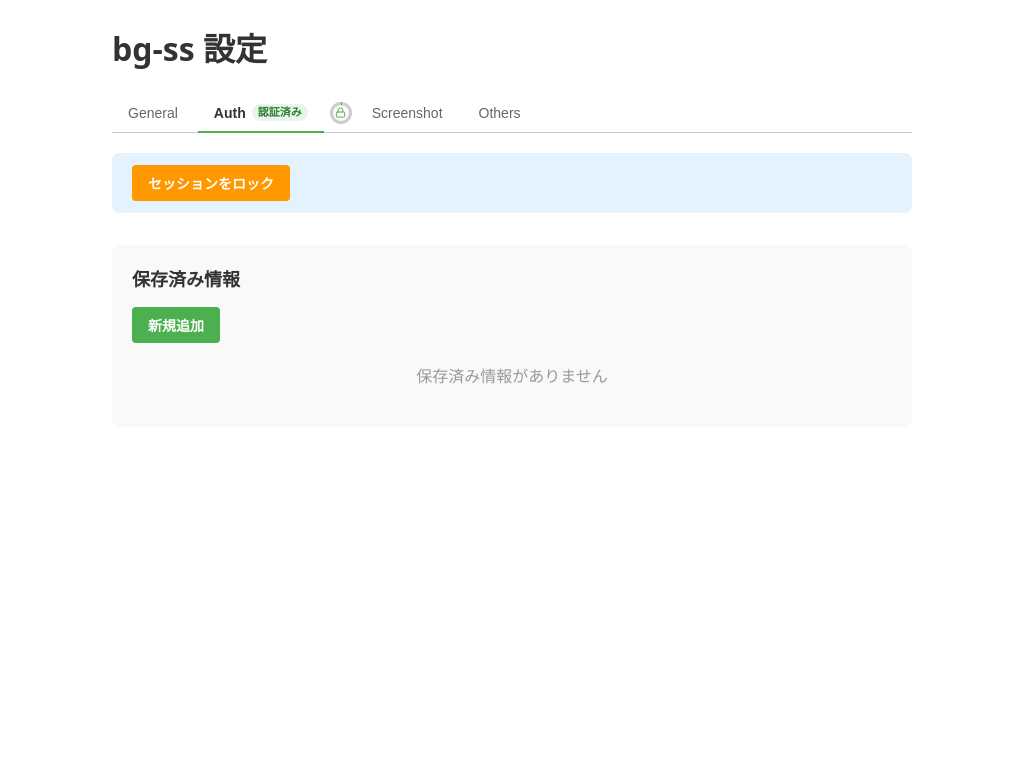
Options App › 情報追加 › 必須フィールドが空の場合はエラーが表示される
新規追加ボタンをクリック
Click the button "新規追加": point(176, 325) [132, 307, 220, 343]
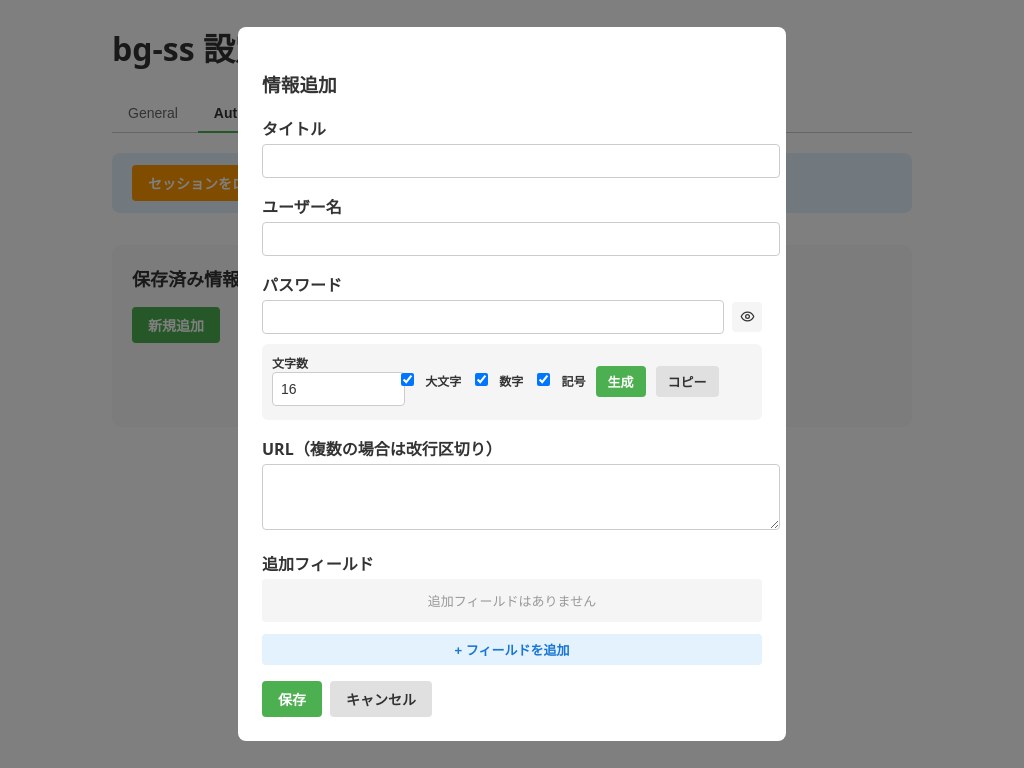
何も入力せずに保存ボタンをクリック
Click the button "保存": point(292, 699) [262, 681, 322, 717]
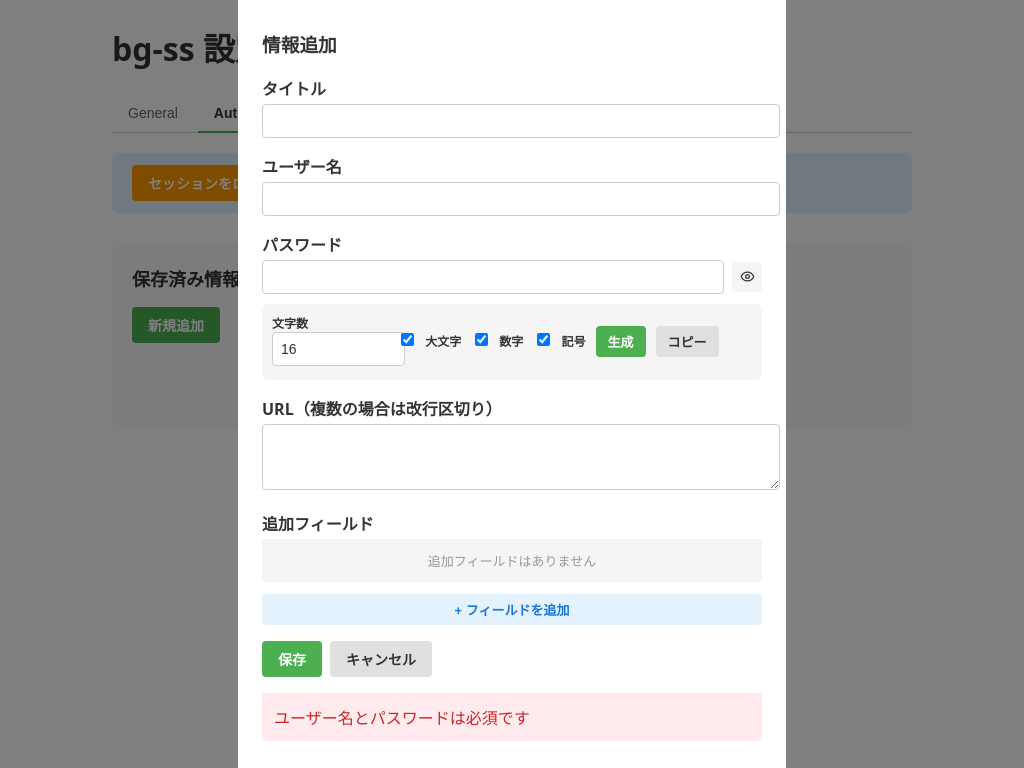
Expected: the text "ユーザー名とパスワードは必須です" is shown, [262, 693, 762, 741]
